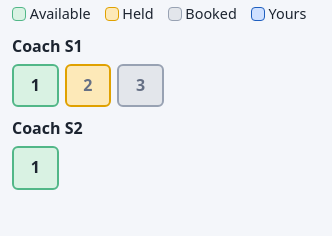
booking a seat › asks a logged-out visitor to log in instead of booking
The image size is (332, 236).
Click the button named "Seat S1-1, available" at point(35, 86), box [12,64,59,107]
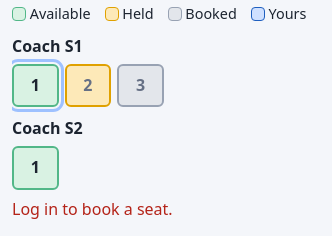
Check: the message shows "Log in", box [12,198,173,220]
